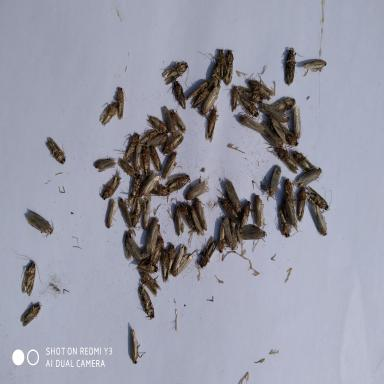pbw: (238, 222, 268, 254), (248, 66, 276, 100), (161, 58, 191, 87), (306, 185, 333, 215), (26, 211, 54, 239), (219, 193, 242, 227), (262, 164, 282, 203), (117, 132, 141, 164), (171, 246, 194, 279), (136, 285, 156, 322), (273, 146, 299, 174), (138, 268, 163, 297), (197, 236, 218, 270), (259, 102, 290, 125), (284, 190, 300, 234), (135, 171, 160, 199), (236, 90, 260, 119), (44, 136, 67, 166), (310, 204, 329, 240), (199, 84, 218, 120), (100, 170, 122, 201), (208, 47, 228, 81), (129, 326, 146, 366), (162, 129, 185, 158), (160, 149, 180, 182), (289, 147, 315, 172), (260, 122, 284, 149), (224, 178, 242, 214), (19, 302, 43, 329), (282, 46, 298, 86), (237, 84, 266, 105), (237, 115, 266, 136), (185, 179, 210, 203), (296, 166, 323, 188), (116, 196, 133, 230), (128, 173, 144, 209), (184, 80, 210, 102), (221, 216, 237, 251), (146, 216, 160, 256), (251, 193, 267, 228), (166, 173, 192, 194), (178, 201, 195, 233), (222, 48, 236, 86), (206, 105, 219, 145), (301, 58, 327, 78), (171, 80, 187, 112), (189, 204, 204, 237), (170, 108, 188, 135), (146, 113, 169, 134), (238, 200, 253, 232), (277, 204, 291, 238), (281, 126, 300, 151), (229, 220, 244, 251), (115, 85, 128, 120), (99, 103, 117, 128), (162, 105, 177, 135), (148, 145, 164, 173), (146, 244, 162, 272), (131, 196, 144, 228), (284, 176, 296, 210), (116, 158, 136, 178), (292, 104, 303, 140), (218, 225, 228, 264), (106, 198, 118, 230), (272, 95, 296, 111), (136, 259, 160, 275), (147, 133, 169, 150), (94, 155, 116, 172), (122, 231, 134, 262), (296, 187, 306, 223), (227, 84, 239, 114), (138, 128, 160, 144), (209, 61, 221, 89), (150, 182, 171, 198), (141, 200, 151, 233), (167, 243, 178, 273), (141, 144, 151, 177), (161, 249, 170, 284), (172, 203, 181, 237), (134, 142, 142, 174)
